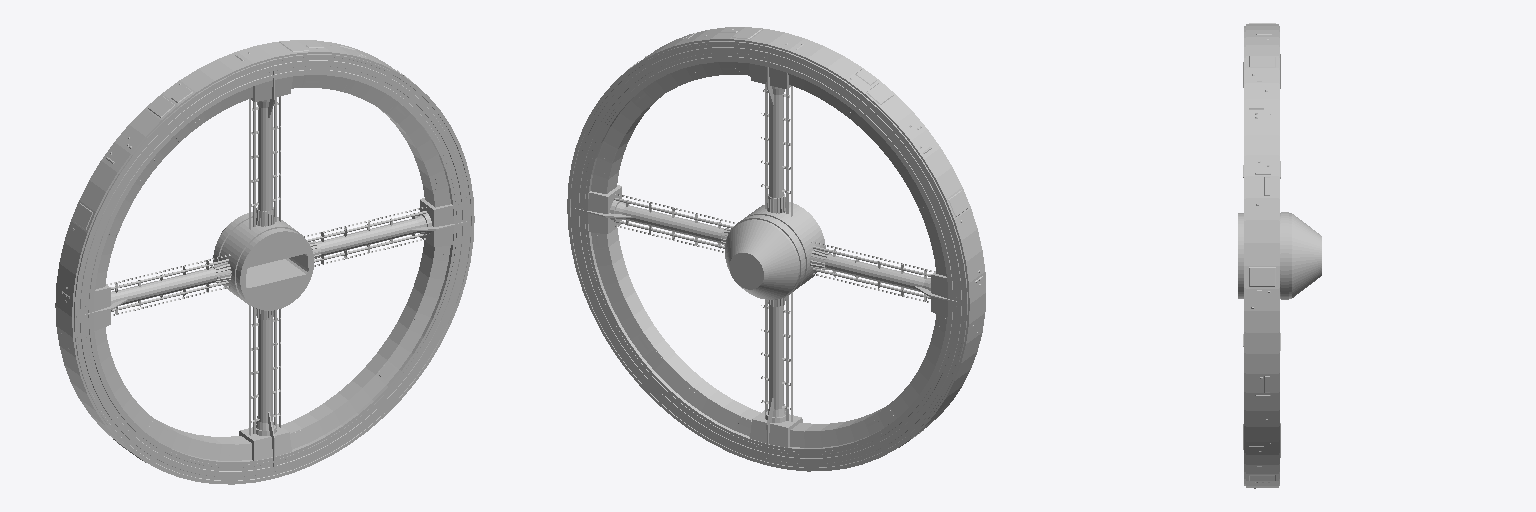
The model's file is SpaceStation.obj.
3 renders of one model, left to right at view 1: azimuth 30°, elevation 25°; view 2: azimuth 150°, elevation 25°; view 3: azimuth 270°, elevation 25°, orthographic.
Parts seen in each view (by area): view 1: Wheel01, Mesh01, Cables01, Bay_Face_0, Hub, Spoke03, Spoke02, Spoke01, Spoke04, Blocks02, Object01, Blocks03 (+4 smaller); view 2: Wheel01, Mesh02, Hub, Cables01, Spoke02, Spoke03, Spoke04, Spoke01, Blocks02, Blocks03, Blocks01, Blocks04 (+2 smaller); view 3: Wheel01, Hub.
Part boxes in pixels (x1,y1,x2,y2): Wheel01: (55,40,474,484); Mesh01: (75,55,473,482); Cables01: (107,96,426,435); Bay_Face_0: (240,231,313,310); Hub: (213,212,302,307); Spoke03: (256,310,276,435); Spoke02: (313,213,431,256); Spoke01: (257,98,275,225); Spoke04: (111,268,229,310); Blocks02: (420,198,453,246); Object01: (246,259,305,287); Blocks03: (239,424,291,460); Wheel01: (567,27,985,471); Mesh02: (568,42,966,469); Hub: (725,202,825,299); Cables01: (614,84,934,421); Spoke02: (610,200,726,243); Spoke03: (765,305,785,422); Spoke04: (812,254,930,297); Spoke01: (769,86,784,197); Blocks02: (588,185,621,233); Blocks03: (750,410,802,447); Blocks01: (749,63,790,88); Blocks04: (931,271,947,317); Wheel01: (1244,23,1279,488); Hub: (1238,212,1321,299).
Bounding box in the file's own units: 249 × 249 × 44.96.